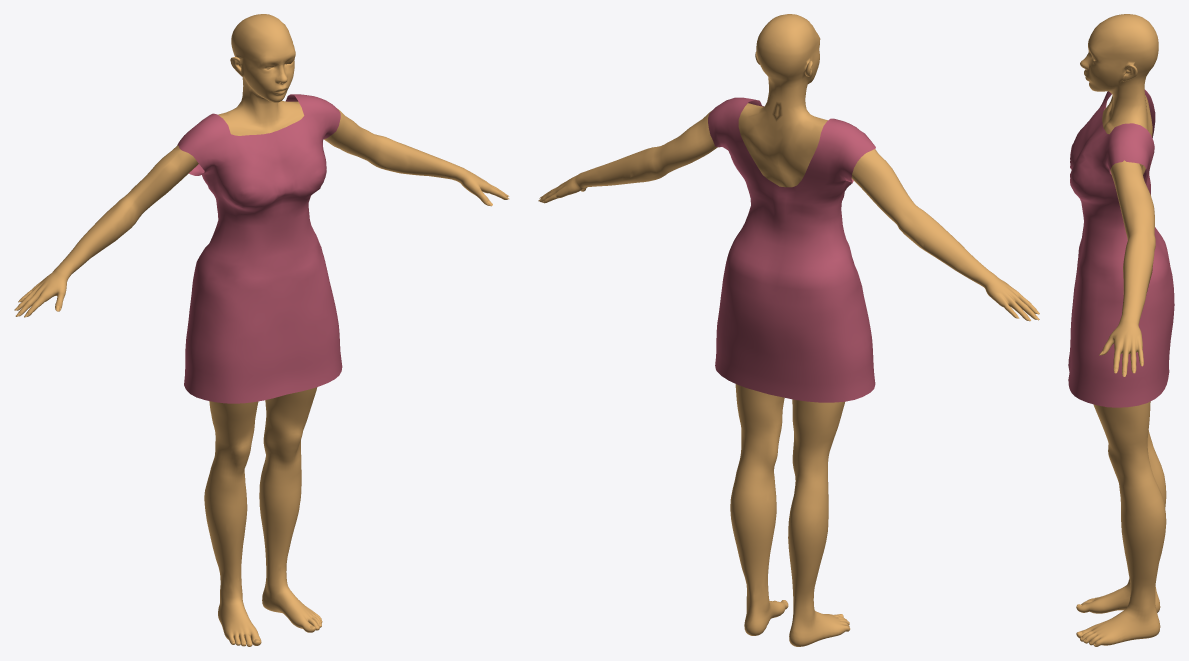
File: dress7.glb
The picture shows the model from 3 angles, left to right: view 1: azimuth 30°, elevation 25°; view 2: azimuth 150°, elevation 25°; view 3: azimuth 270°, elevation 25°; orthographic projection.
Parts seen in each view (by area): view 1: Jennifer.F_Dress_01, Body; view 2: Body, Jennifer.F_Dress_01; view 3: Body, Jennifer.F_Dress_01.
Part boxes in pixels (x1,y1,x2,y2): Jennifer.F_Dress_01: (177,94,342,403); Body: (17,14,508,646); Body: (539,14,1037,646); Jennifer.F_Dress_01: (708,97,875,402); Body: (1076,14,1166,646); Jennifer.F_Dress_01: (1068,89,1174,407).
Size of the model in its own units: 1.58 by 1.85 by 0.2918.
